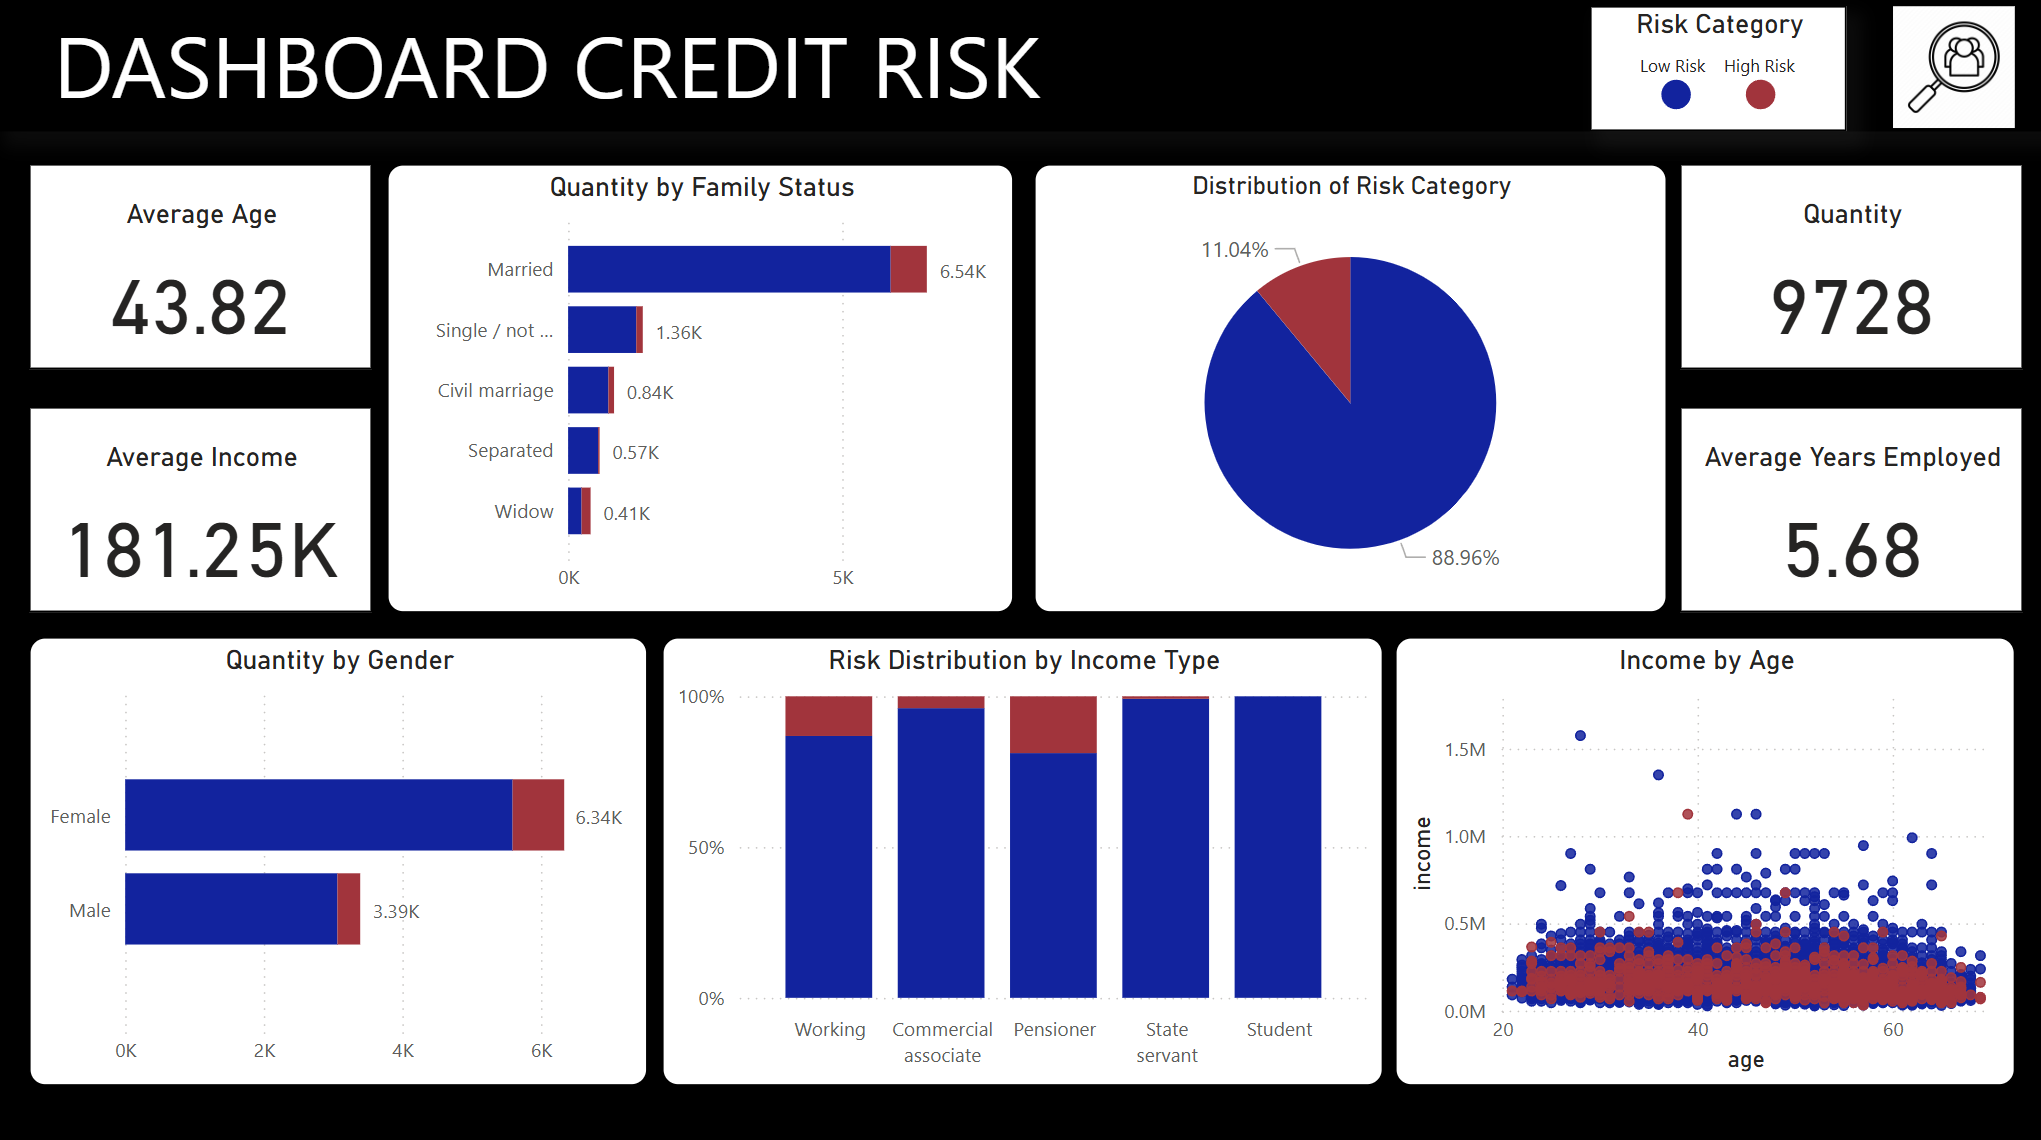

What the dashboard file says about the page in this screenshot:
{"tool":"powerbi","page":{"name":"Risk Overview","canvas":[1280,720],"ordinal":0},"visuals":[{"type":"barChart","title":"Quantity by Gender ","fields":{"Category":["Sheet1.gender"],"Y":["CountNonNull(Sheet1.ID)"],"Series":["Sheet1.risk_category"]},"box":[20.1,400.8,386,280.1],"z":0},{"type":"scatterChart","title":"Income by Age","fields":{"X":["Sum(Sheet1.age)"],"Y":["Sum(Sheet1.income)"],"Series":["Sheet1.risk_category"]},"box":[872.5,400.8,387.4,280.1],"z":1000},{"type":"hundredPercentStackedColumnChart","title":"Risk Distribution by Income Type","fields":{"Category":["Sheet1.income_type"],"Y":["CountNonNull(Sheet1.ID)"],"Series":["Sheet1.risk_category"]},"box":[414.8,400.8,450.3,280.1],"z":2000},{"type":"textbox","box":[0,0,1280,85.1],"z":3000},{"type":"card","title":"Average Age","fields":{"Values":["Avg(Sheet1.age)"]},"box":[20.1,105.2,213.8,128],"z":4000},{"type":"card","title":"Average Income","fields":{"Values":["Avg(Sheet1.income)"]},"box":[20.1,257.3,213.8,128],"z":5000},{"type":"image","box":[1178.1,0,85.8,89],"z":6000},{"type":"barChart","title":"Quantity by Family Status","fields":{"Category":["Sheet1.family_status"],"Y":["CountNonNull(Sheet1.ID)"],"Series":["Sheet1.risk_category"]},"box":[243.3,105.2,391.4,280.1],"z":7000},{"type":"pieChart","title":"Distribution of Risk Category","fields":{"Category":["Sheet1.risk_category"],"Y":["CountNonNull(Sheet1.ID)"]},"box":[646.7,105.2,394.7,280.1],"z":8000},{"type":"card","title":"Quantity","fields":{"Values":["CountNonNull(Sheet1.ID)"]},"box":[1050.1,105.2,213.8,128],"z":9000},{"type":"card","title":"Average Years Employed","fields":{"Values":["Avg(Sheet1.years_employed)"]},"box":[1050.1,257.3,213.8,128],"z":10000},{"type":"scatterChart","title":"Risk Category","fields":{"X":["Sum(Sheet1.risk_category)"]},"box":[993.8,6.7,160.2,78.4],"z":11000},{"type":"textbox","box":[1020,29.5,125.3,28.8],"z":12000}]}

Visuals, with their boxes in screenshot pixels (x1, y1, x2, y2), scaled from the page's 1280x720 canvas onto the 2041x1140 screenshot:
"Quantity by Gender " barChart: left=32, top=635, right=648, bottom=1078
"Income by Age" scatterChart: left=1391, top=635, right=2009, bottom=1078
"Risk Distribution by Income Type" hundredPercentStackedColumnChart: left=661, top=635, right=1379, bottom=1078
textbox: left=0, top=0, right=2040, bottom=135
"Average Age" card: left=32, top=167, right=373, bottom=369
"Average Income" card: left=32, top=407, right=373, bottom=610
image: left=1879, top=0, right=2015, bottom=141
"Quantity by Family Status" barChart: left=388, top=167, right=1012, bottom=610
"Distribution of Risk Category" pieChart: left=1031, top=167, right=1661, bottom=610
"Quantity" card: left=1674, top=167, right=2015, bottom=369
"Average Years Employed" card: left=1674, top=407, right=2015, bottom=610
"Risk Category" scatterChart: left=1585, top=11, right=1840, bottom=135
textbox: left=1626, top=47, right=1826, bottom=92
